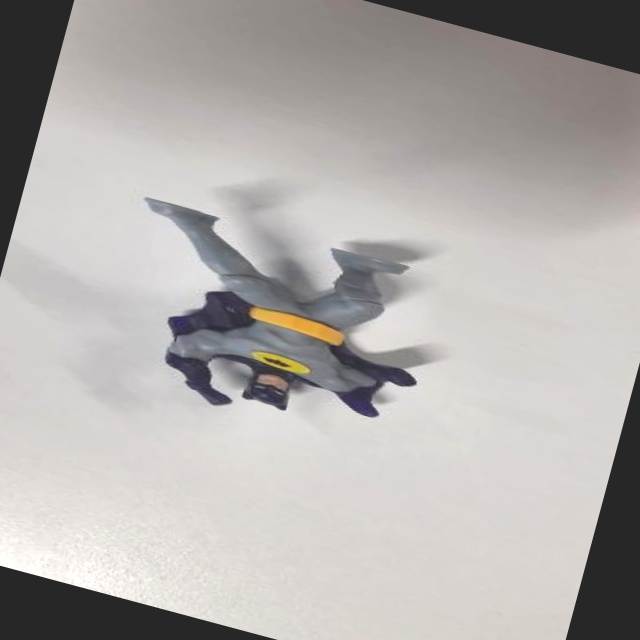Batman: (85, 172, 468, 466)
